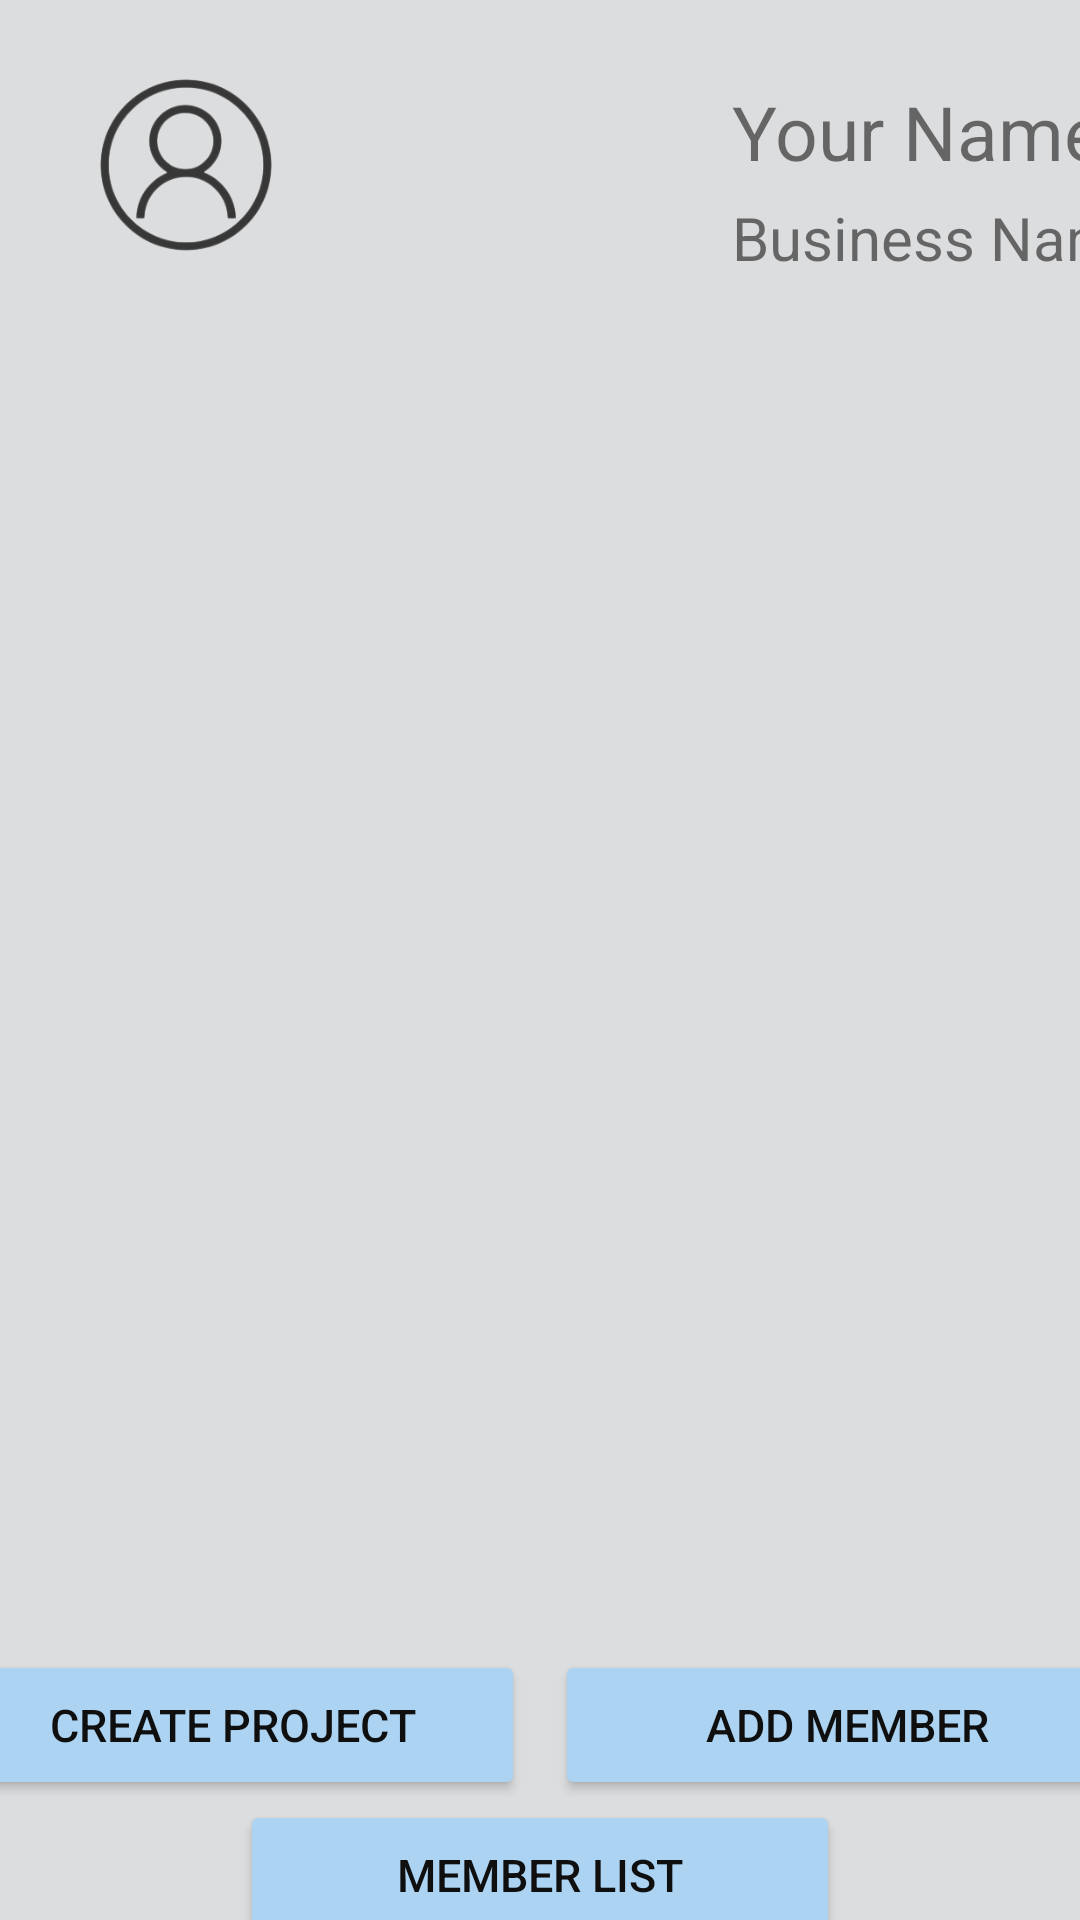

Named icons in this screenshot (1080*1920) and their centers, point (x, y):
profile: point (186, 165)
